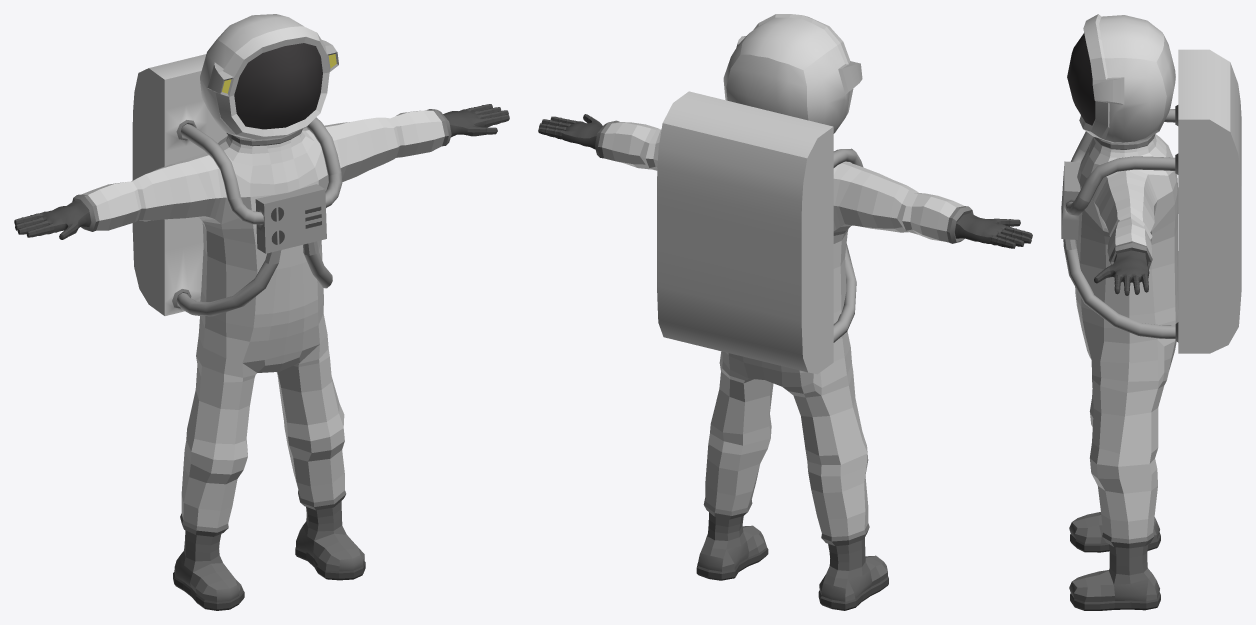
The model's file is BatracioSinAnimar.fbx.
The picture shows the model from 3 angles, left to right: view 1: azimuth 30°, elevation 25°; view 2: azimuth 150°, elevation 25°; view 3: azimuth 270°, elevation 25°; orthographic projection.
Visible parts, largest first — view 1: Cuerpo; view 2: Cuerpo; view 3: Cuerpo.
Part boxes in pixels (x1=…): Cuerpo: x1=14, y1=14, x2=509, y2=610; Cuerpo: x1=538, y1=14, x2=1032, y2=610; Cuerpo: x1=1061, y1=14, x2=1241, y2=610.
Bounding box in the file's own units: 614 × 665 × 198.
